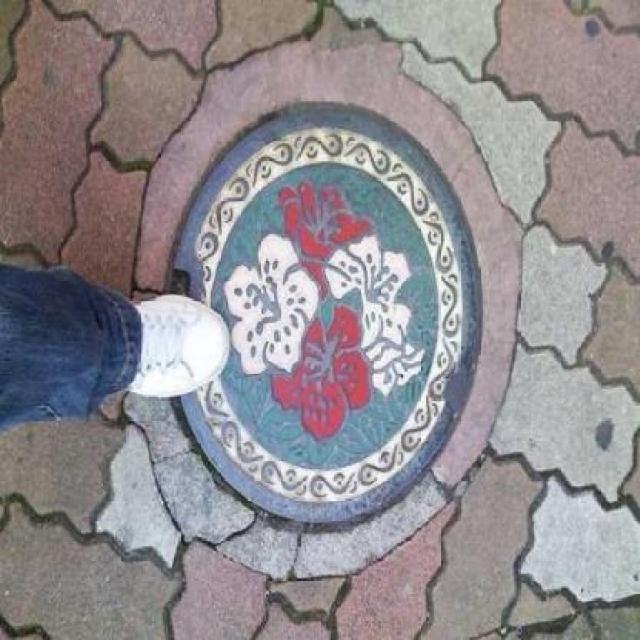Manhole: (142, 88, 515, 540)
